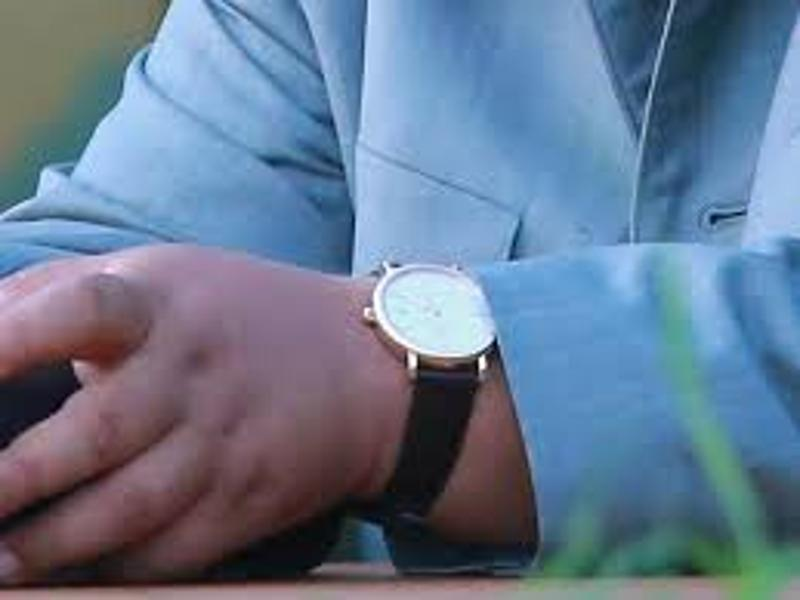watch: (360, 254, 499, 524)
